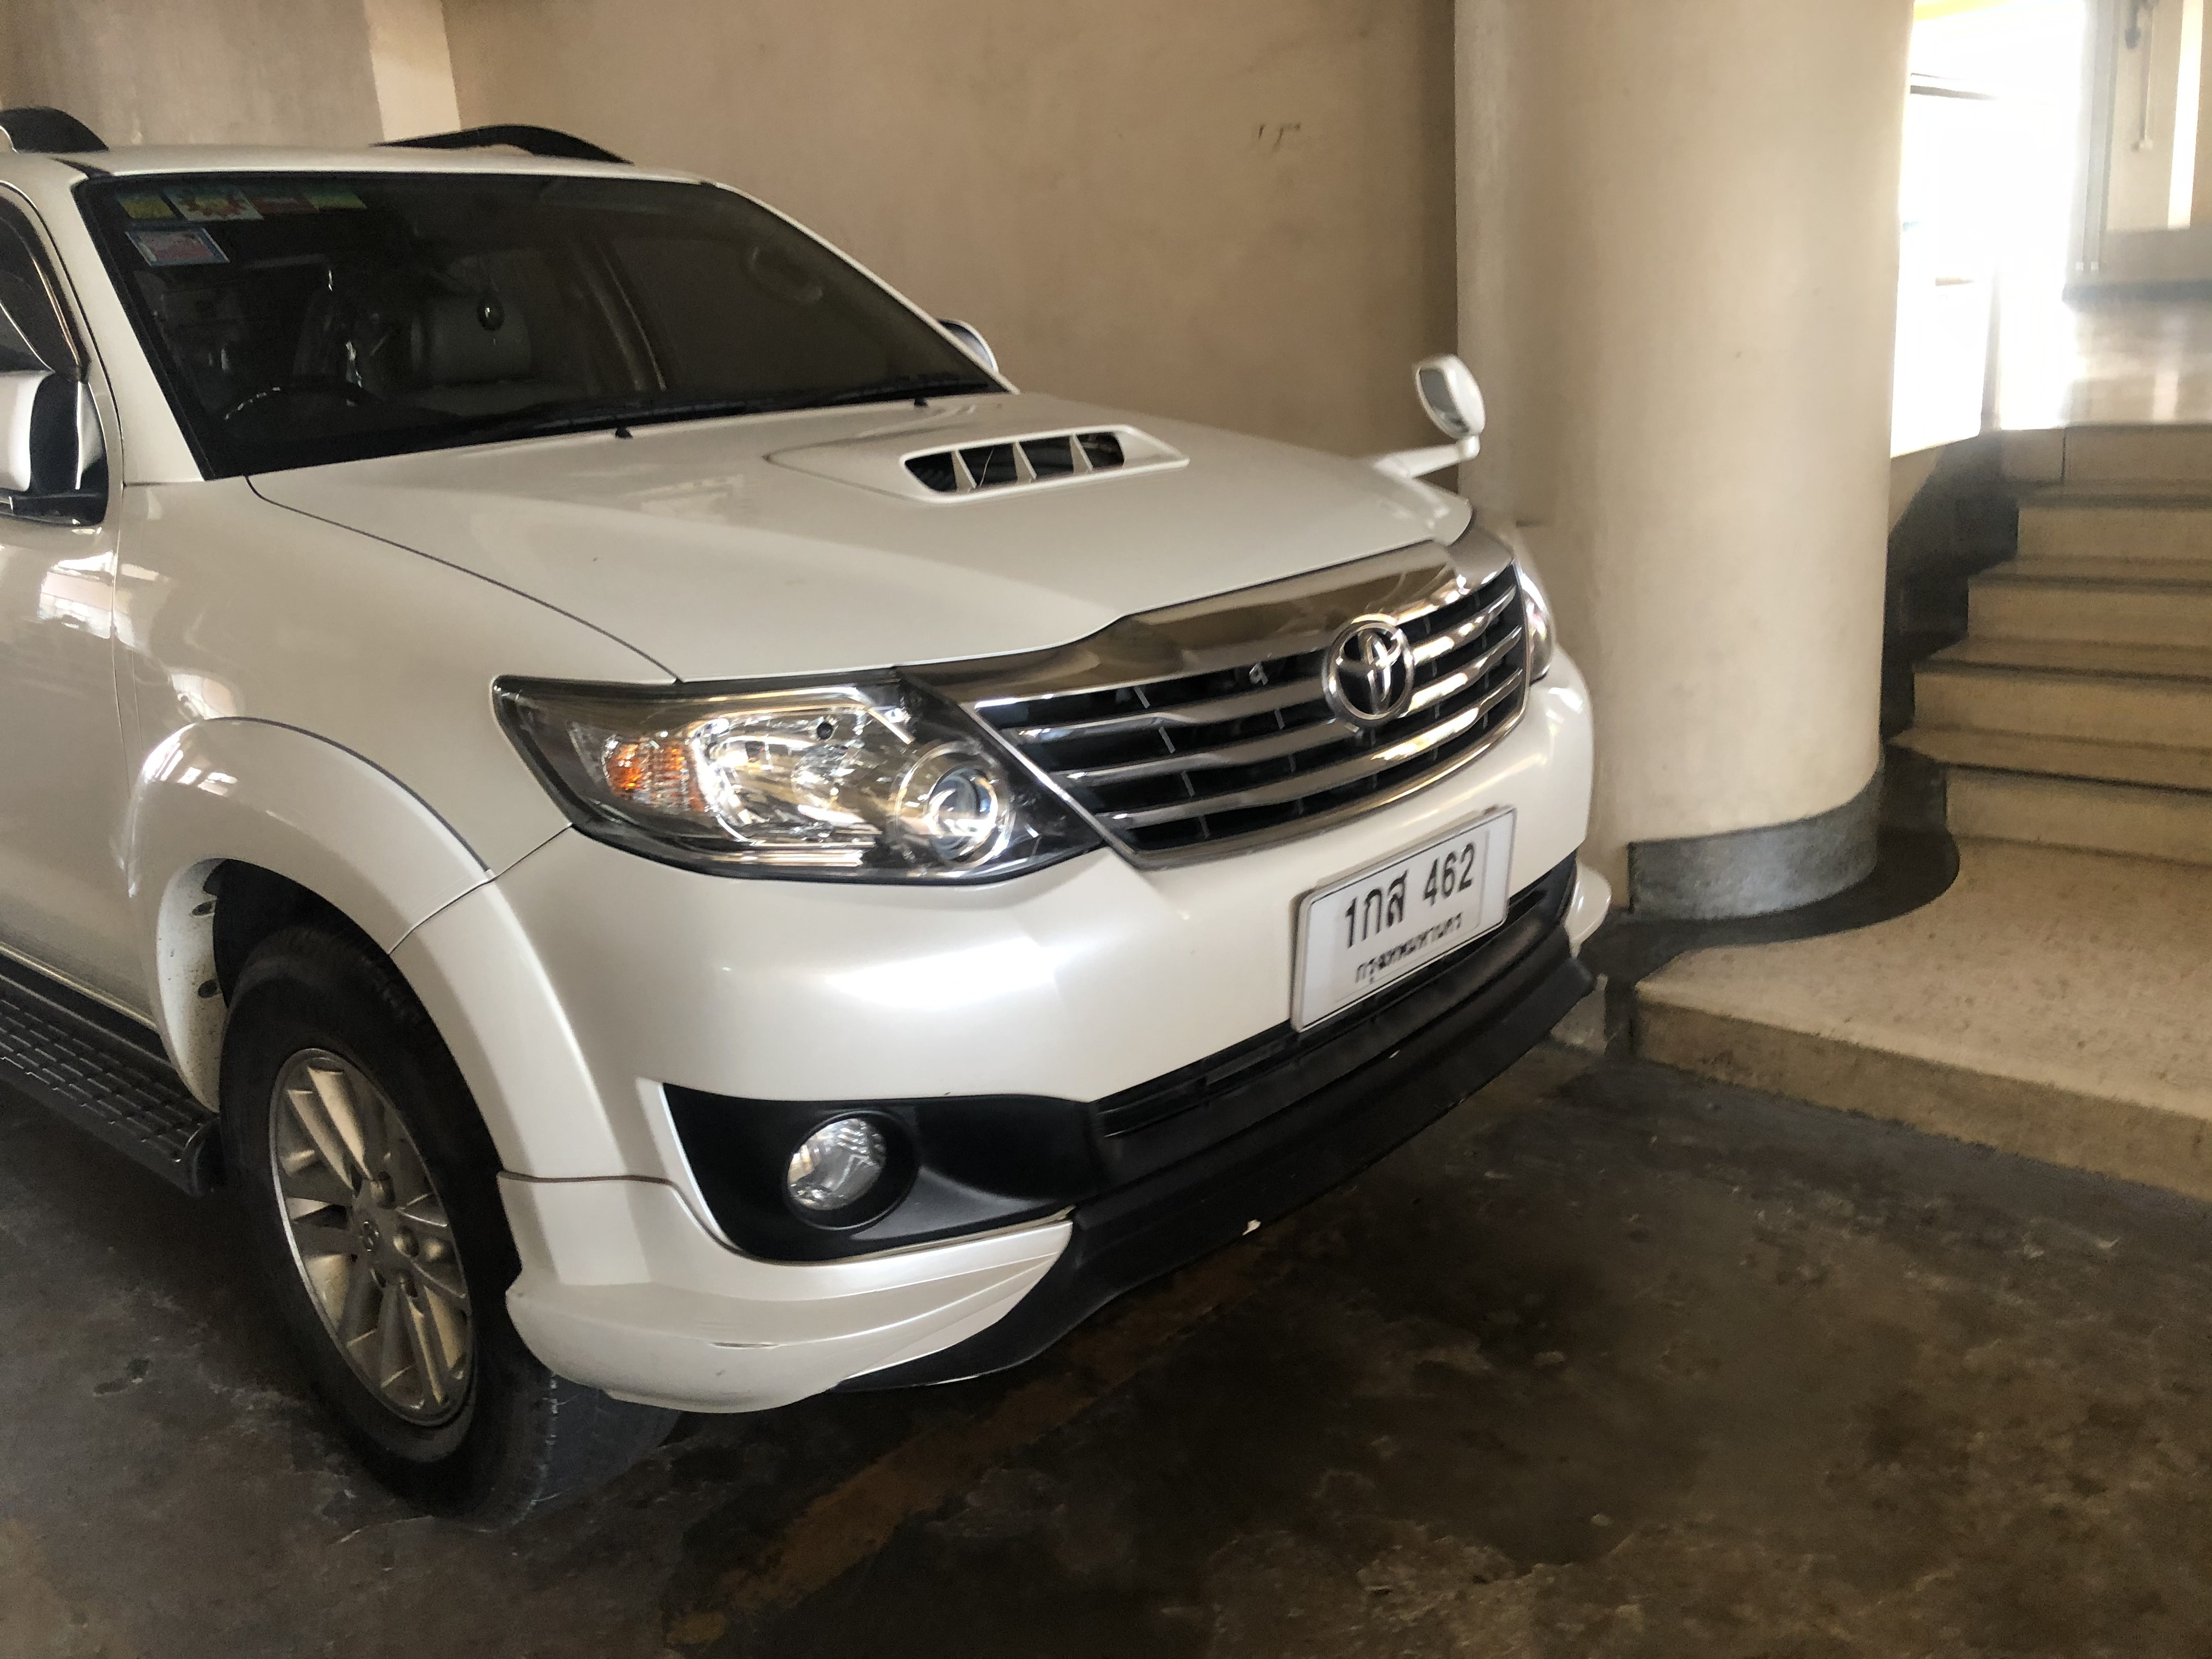in: (1327, 831, 1489, 997)
out: (1291, 809, 1515, 1028)
